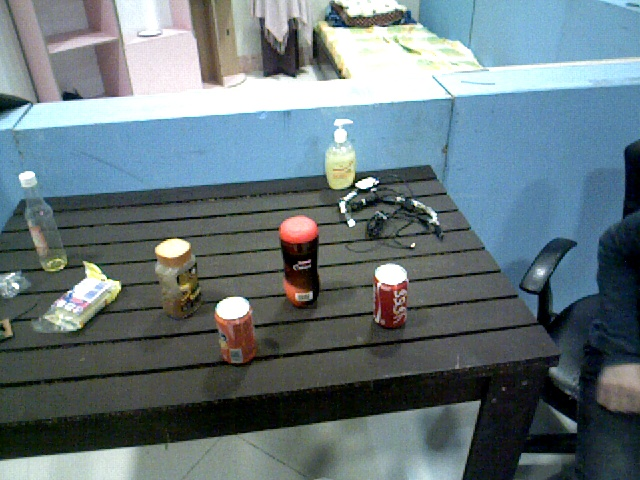coca: (373, 262, 409, 330)
coffee: (154, 237, 206, 322)
cream: (279, 213, 327, 311)
fanta: (216, 293, 254, 365)
